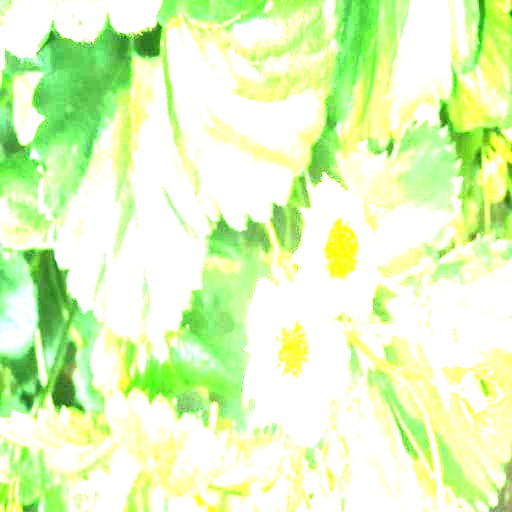Blossom Blight: (264, 313, 318, 388)
